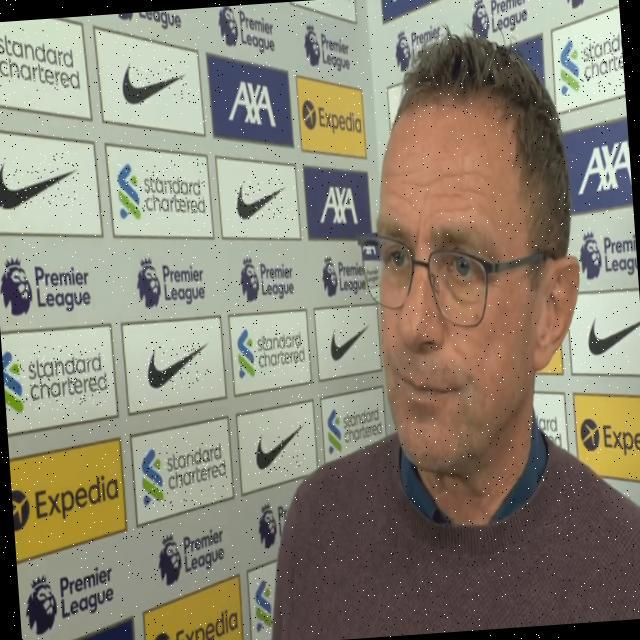Nike: (0, 151, 81, 210), (121, 59, 190, 107), (145, 342, 210, 391), (254, 424, 307, 473), (235, 179, 289, 220), (328, 323, 373, 362)
Standard Chartered: (2, 342, 109, 413), (139, 441, 229, 508), (0, 23, 80, 96), (115, 158, 206, 221), (556, 32, 625, 97), (235, 323, 306, 379), (326, 404, 384, 455), (252, 578, 274, 632)
